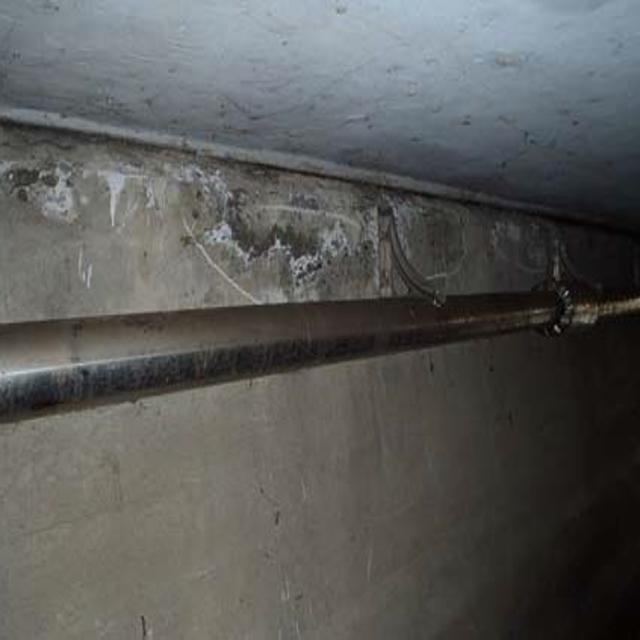freelime: (17, 136, 426, 301)
